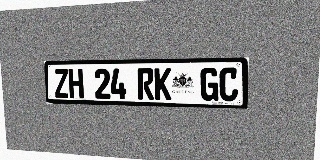2: (94, 68, 110, 99)
4: (110, 68, 126, 99)
C: (219, 67, 239, 101)
G: (200, 68, 219, 101)
H: (68, 69, 84, 98)
K: (154, 68, 171, 100)
R: (137, 68, 154, 100)
Z: (54, 69, 69, 98)
